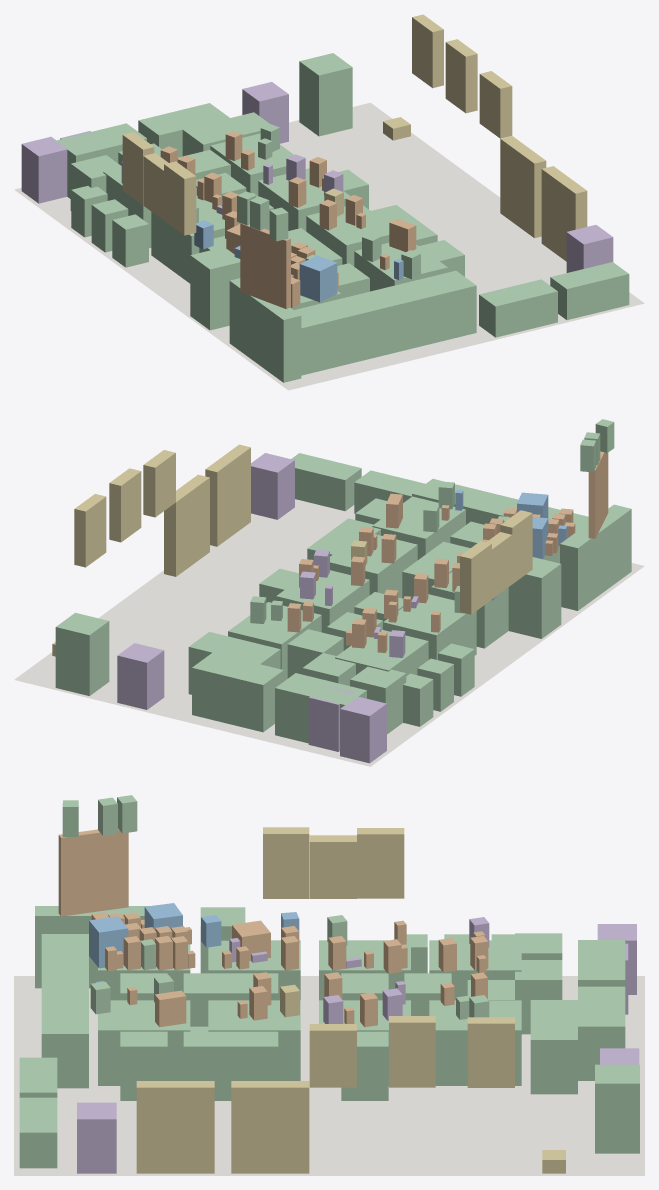
The model's file is layout.glb.
3 views of the same model, one above another, from view 1: azimuth 30°, elevation 25°; view 2: azimuth 150°, elevation 25°; view 3: azimuth 270°, elevation 25° (orthographic). The views are drawn at different scales.
Visible parts, largest first — view 1: room_extent_proxy, obj_0049, obj_0044, obj_0042, obj_0048, obj_0039, obj_0040, obj_0043, obj_0041, obj_0034, obj_0002, obj_0014 (+34 smaller); view 2: room_extent_proxy, obj_0049, obj_0044, obj_0042, obj_0043, obj_0041, obj_0002, obj_0021, obj_0040, obj_0036, obj_0034, obj_0037 (+42 smaller); view 3: room_extent_proxy, obj_0041, obj_0042, obj_0048, obj_0004, obj_0044, obj_0007, obj_0026, obj_0113, obj_0114, obj_0111, obj_0112 (+59 smaller).
Boxes of the visible parts, bbox=[...] form: room_extent_proxy: bbox=[14, 102, 644, 390]; obj_0049: bbox=[229, 278, 301, 382]; obj_0044: bbox=[299, 53, 352, 136]; obj_0042: bbox=[500, 136, 546, 238]; obj_0048: bbox=[240, 223, 290, 309]; obj_0039: bbox=[479, 279, 557, 337]; obj_0040: bbox=[550, 262, 629, 319]; obj_0043: bbox=[190, 247, 240, 330]; obj_0041: bbox=[541, 166, 587, 261]; obj_0034: bbox=[21, 136, 67, 203]; obj_0002: bbox=[151, 195, 224, 283]; obj_0014: bbox=[349, 288, 405, 358]; room_extent_proxy: bbox=[14, 499, 644, 766]; obj_0049: bbox=[560, 504, 631, 610]; obj_0044: bbox=[55, 612, 109, 695]; obj_0042: bbox=[164, 474, 209, 576]; obj_0043: bbox=[508, 557, 561, 638]; obj_0041: bbox=[205, 444, 250, 546]; obj_0002: bbox=[383, 594, 476, 659]; obj_0021: bbox=[227, 661, 283, 732]; obj_0040: bbox=[291, 453, 361, 511]; obj_0036: bbox=[117, 643, 164, 709]; obj_0034: bbox=[340, 696, 386, 763]; obj_0037: bbox=[251, 453, 294, 519]; room_extent_proxy: bbox=[14, 976, 644, 1175]; obj_0041: bbox=[136, 1081, 214, 1173]; obj_0042: bbox=[231, 1081, 309, 1173]; obj_0048: bbox=[58, 829, 128, 916]; obj_0004: bbox=[98, 1000, 190, 1085]; obj_0044: bbox=[595, 1064, 639, 1153]; obj_0007: bbox=[429, 1000, 521, 1085]; obj_0026: bbox=[530, 1020, 577, 1094]; obj_0113: bbox=[357, 828, 404, 898]; obj_0114: bbox=[467, 1017, 514, 1087]; obj_0111: bbox=[263, 827, 309, 898]; obj_0112: bbox=[389, 1016, 435, 1087].
Size of the model in its own units: 6 by 2.53 by 8.
